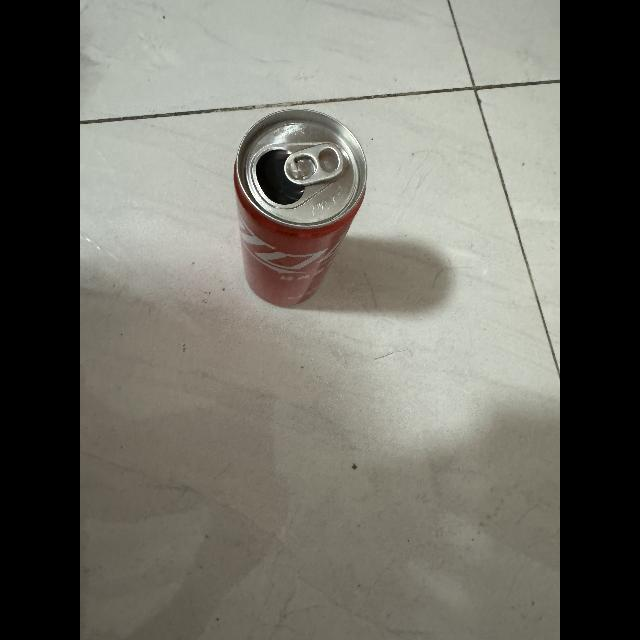Cola: (224, 94, 376, 320)
